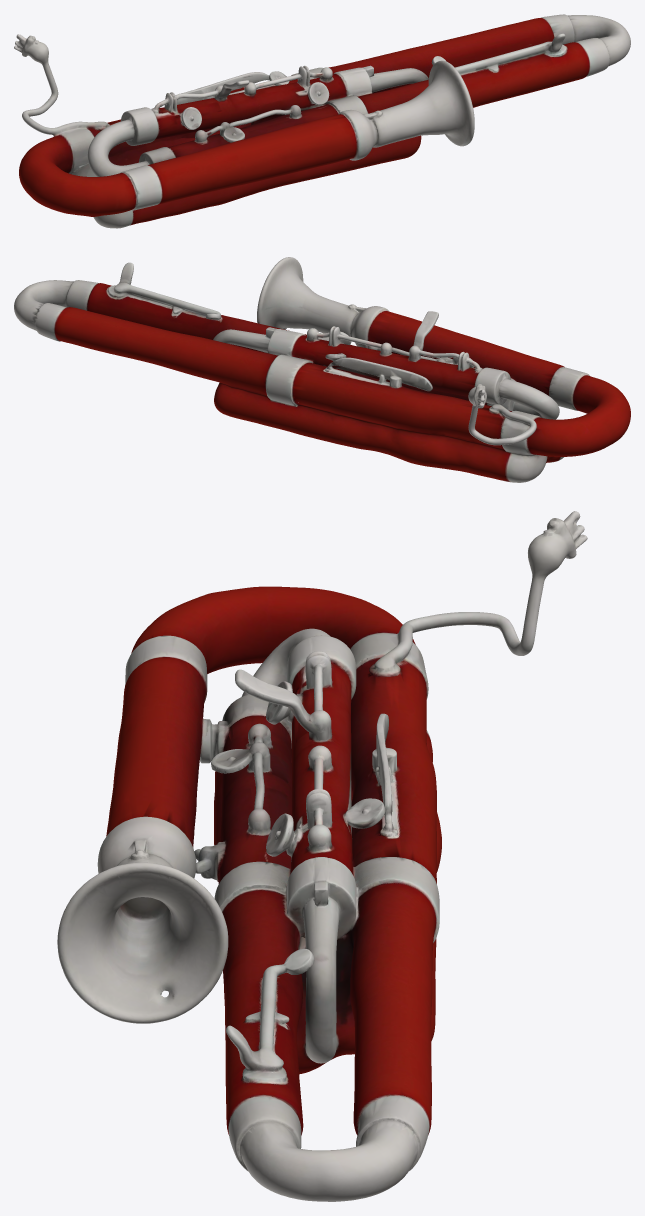
Rendered from contrafagote.glb.
3 views of the same model, one above another, from view 1: azimuth 30°, elevation 25°; view 2: azimuth 150°, elevation 25°; view 3: azimuth 270°, elevation 25° (orthographic). The views are drawn at different scales.
Parts seen in each view (by area): view 1: tripo_node_0c407677-0a27-4c07-9077-0113096378ad; view 2: tripo_node_0c407677-0a27-4c07-9077-0113096378ad; view 3: tripo_node_0c407677-0a27-4c07-9077-0113096378ad.
Part boxes in pixels (box(x1,y1,x2,y2)): tripo_node_0c407677-0a27-4c07-9077-0113096378ad: box(14, 14, 630, 228); tripo_node_0c407677-0a27-4c07-9077-0113096378ad: box(14, 257, 630, 482); tripo_node_0c407677-0a27-4c07-9077-0113096378ad: box(57, 511, 587, 1201).
Bounding box in the file's own units: 0.9803 × 0.2156 × 0.3828.
Materials: 1 (1 with a texture image).
